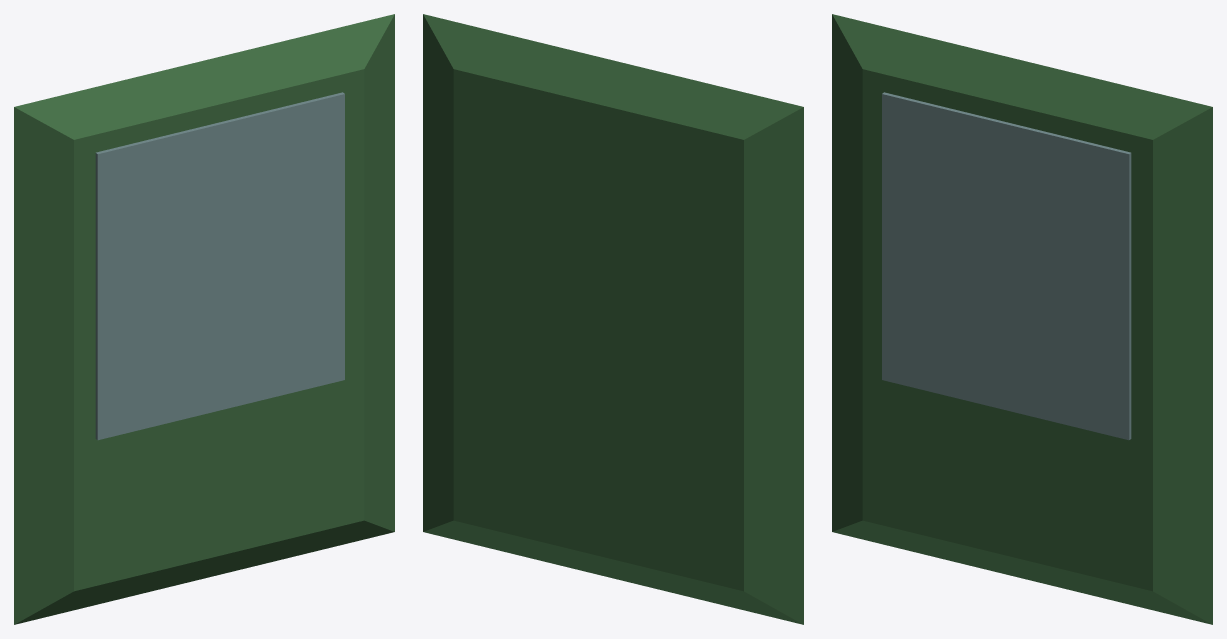
File: pack.fbx
The picture shows the model from 3 angles, left to right: view 1: azimuth 30°, elevation 25°; view 2: azimuth 150°, elevation 25°; view 3: azimuth 330°, elevation 25°; orthographic projection.
Parts seen in each view (by area): view 1: pCube15; view 2: pCube15; view 3: pCube15.
Part boxes in pixels (x1,y1,x2,y2): pCube15: (14, 14, 394, 624); pCube15: (423, 14, 803, 624); pCube15: (832, 14, 1212, 624).
Size of the model in its own units: 50.81 by 66.02 by 7.31.
